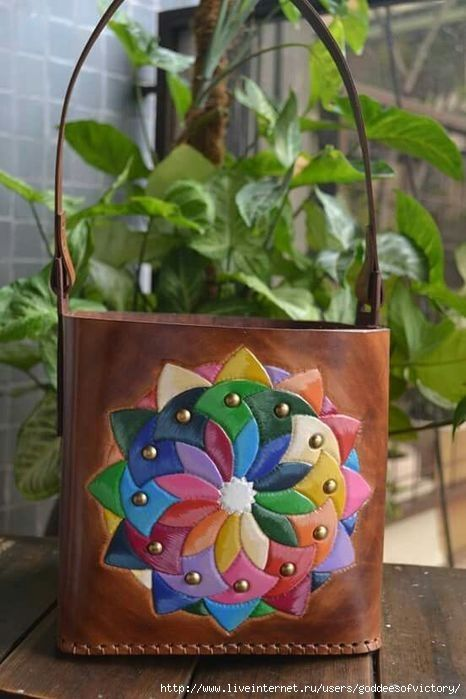cuero: (57, 309, 390, 656)
